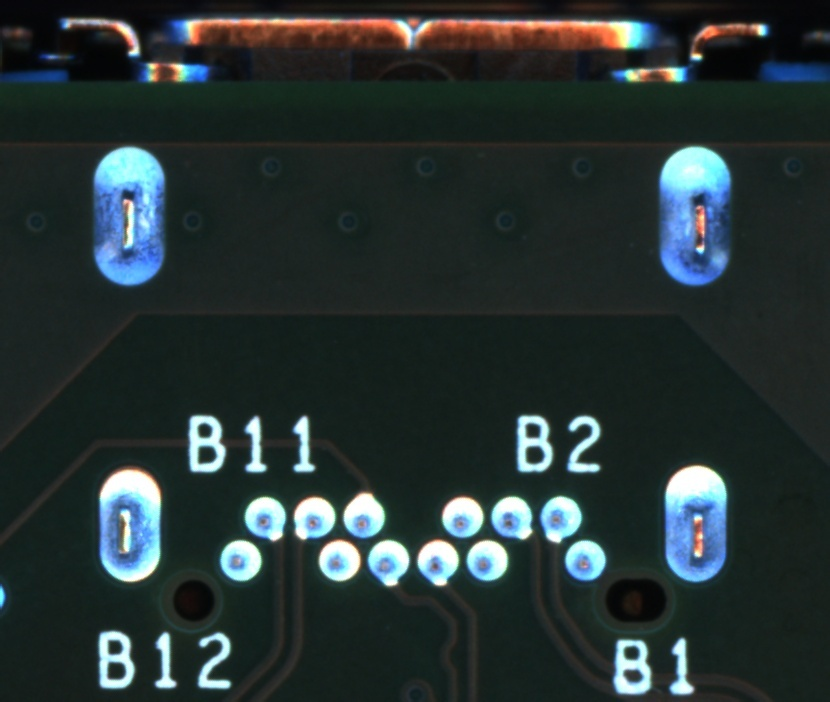SOLDER: (488, 491, 534, 541), (291, 492, 337, 542), (465, 536, 511, 586), (439, 491, 485, 541), (217, 536, 263, 586), (340, 491, 386, 540), (537, 494, 583, 543), (562, 537, 608, 586), (414, 538, 460, 587), (316, 537, 362, 586), (242, 493, 287, 542), (365, 538, 410, 587)
SOLDER2: (74, 138, 180, 300), (642, 132, 748, 294), (643, 444, 749, 606), (79, 446, 185, 608)
